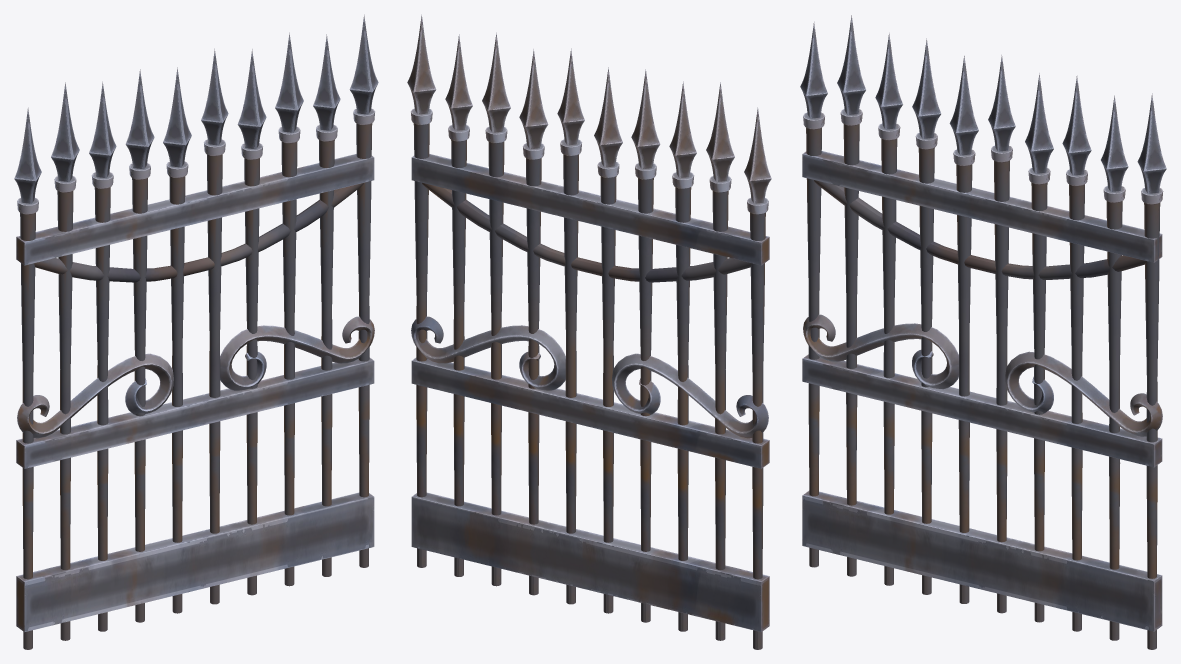
The model's file is Prop_MetalFence_Ornament.gltf.
3 views of the same model, side by side, from view 1: azimuth 30°, elevation 25°; view 2: azimuth 150°, elevation 25°; view 3: azimuth 330°, elevation 25° (orthographic).
Visible parts, largest first — view 1: Prop_MetalFence_Ornament; view 2: Prop_MetalFence_Ornament; view 3: Prop_MetalFence_Ornament.
Boxes of the visible parts, <box> form: Prop_MetalFence_Ornament: <box>14,14,378,649</box>; Prop_MetalFence_Ornament: <box>407,14,771,649</box>; Prop_MetalFence_Ornament: <box>800,15,1166,649</box>.
Size of the model in its own units: 1.95 by 2.85 by 0.1561.
Materials: 1 (1 with a texture image).
